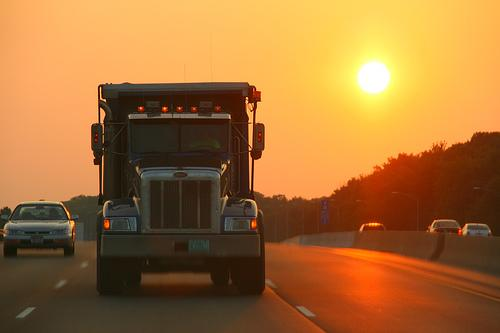truck: (91, 82, 266, 297)
